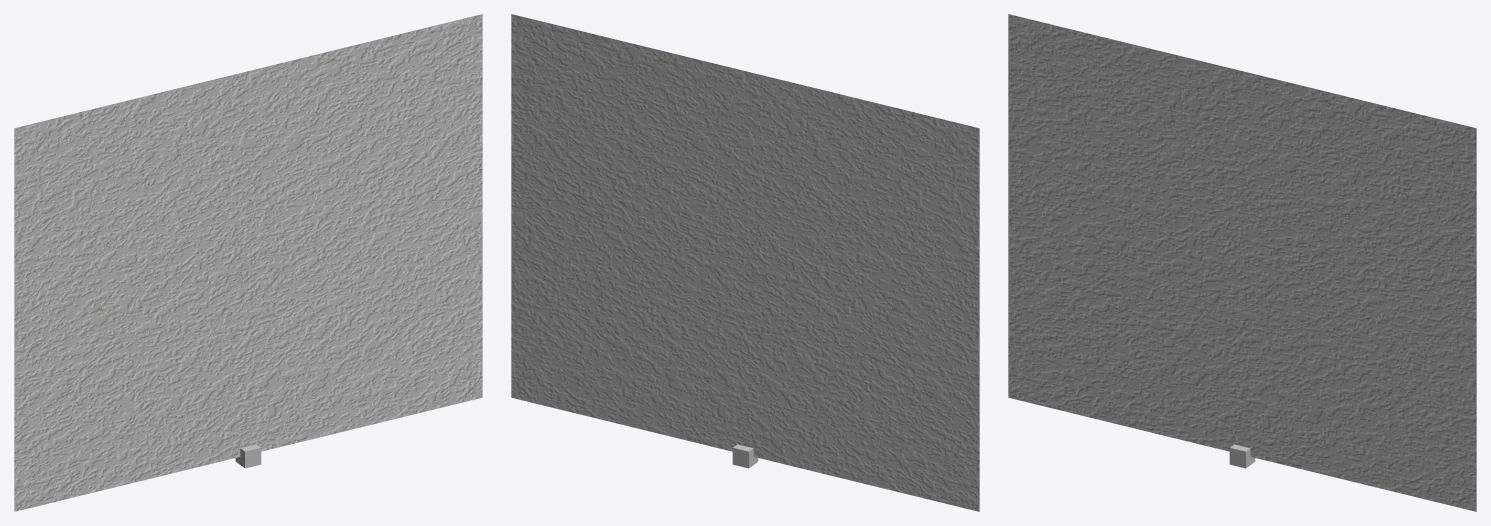
The model's file is pereti.obj.
3 renders of one model, left to right at view 1: azimuth 30°, elevation 25°; view 2: azimuth 150°, elevation 25°; view 3: azimuth 330°, elevation 25°, orthographic.
Visible parts, largest first — view 1: Plane.001; view 2: Plane.001; view 3: Plane.001.
Part boxes in pixels (x1,y1,x2,y2): Plane.001: [14, 14, 482, 511]; Plane.001: [511, 14, 979, 511]; Plane.001: [1008, 14, 1476, 511].
Size of the model in its own units: 58.27 by 46.59 by 2.
2 materials, 1 textured.
